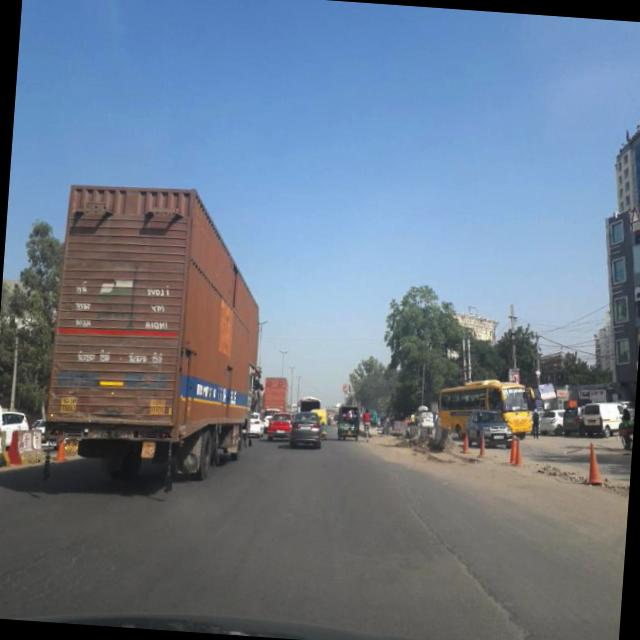crack: (0, 491, 130, 614)
